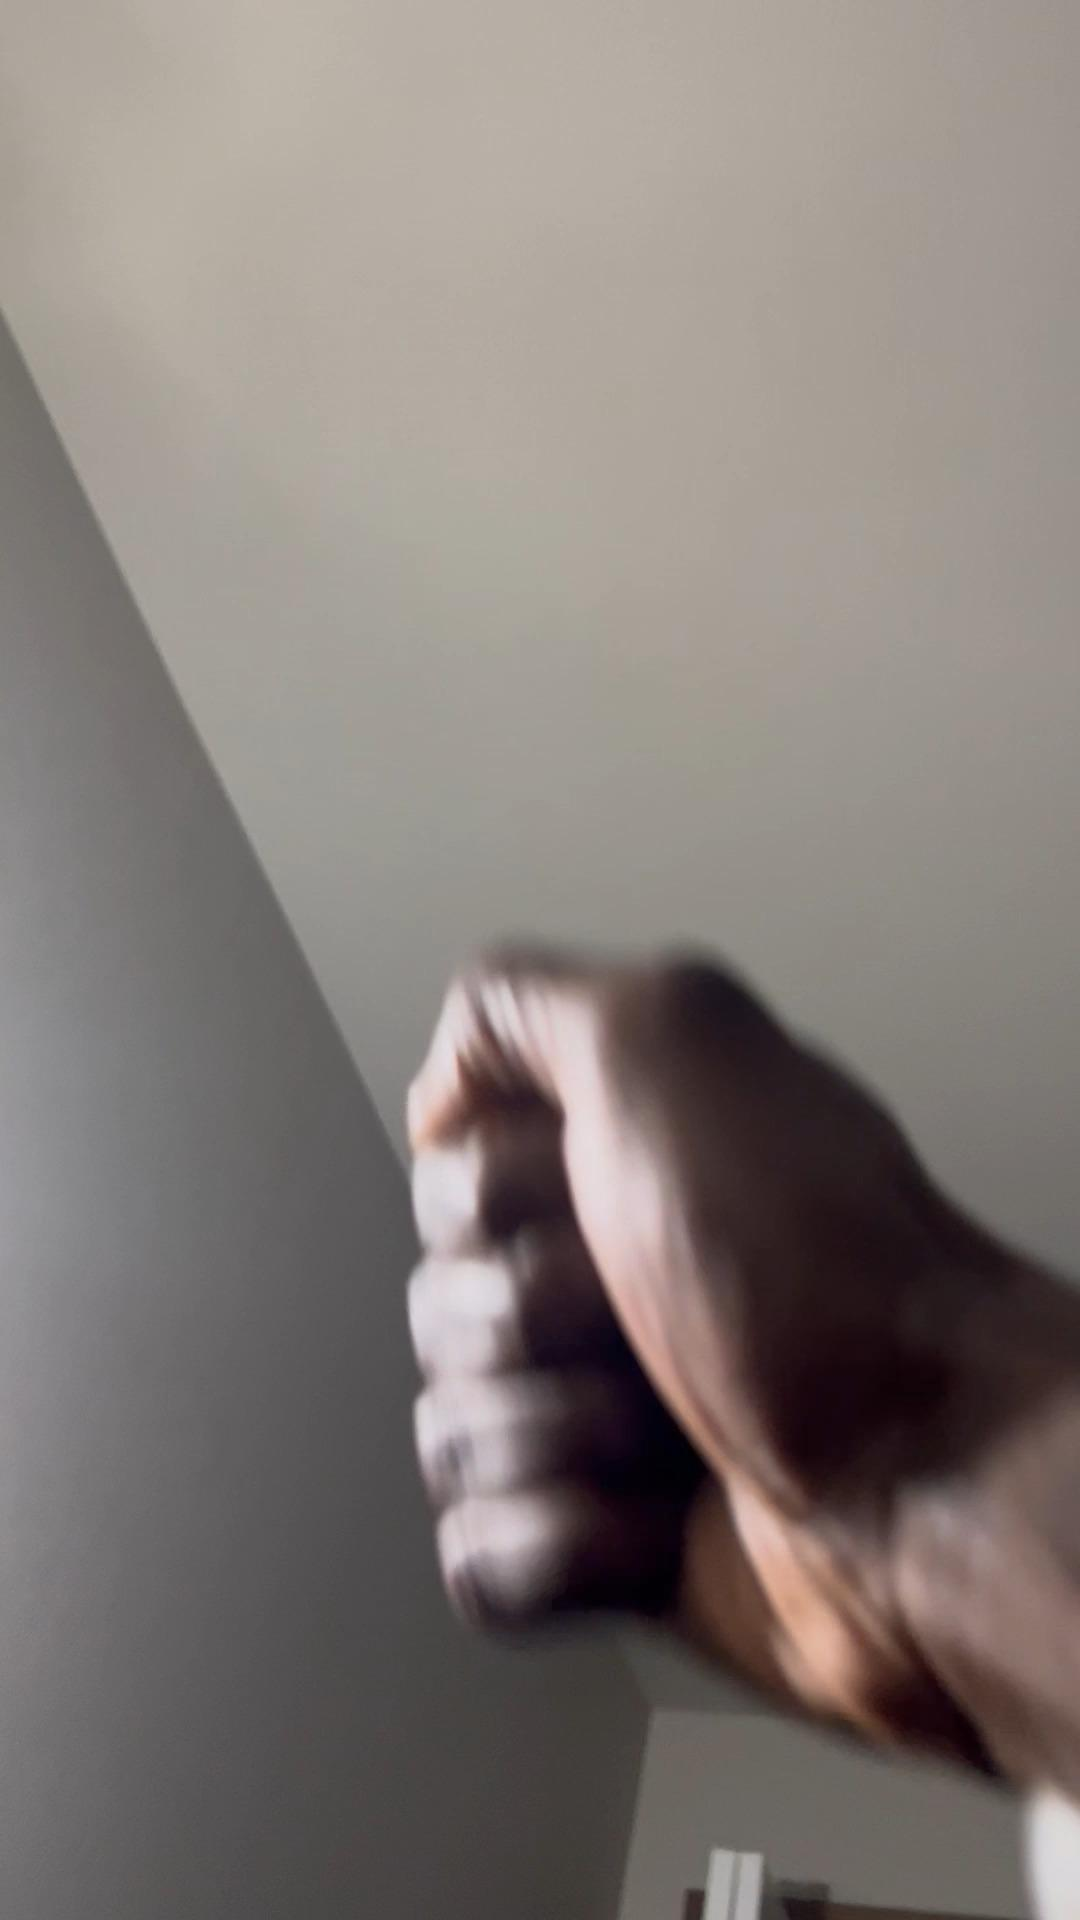Rock: (406, 930, 1080, 1795)
